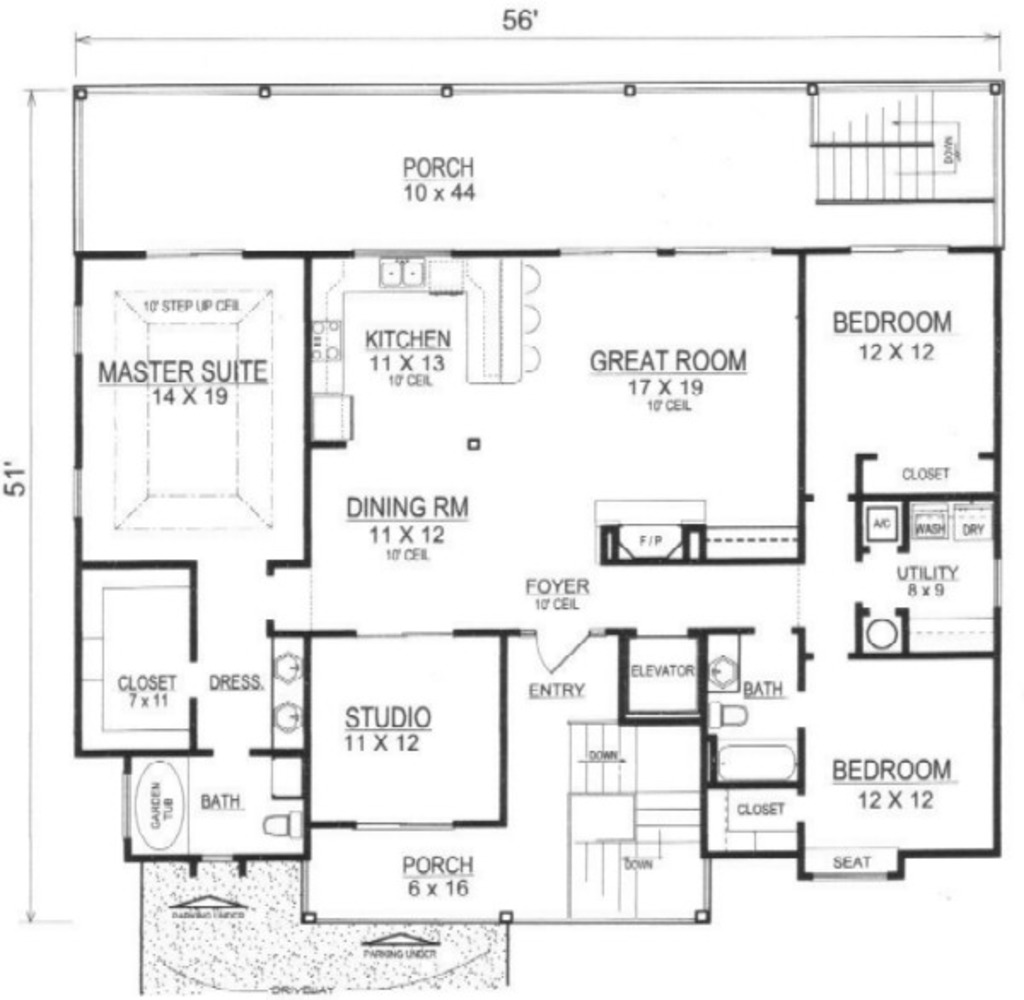door: (529, 627, 596, 675)
large_sink: (258, 802, 310, 846), (705, 693, 754, 735)
small_sink: (271, 639, 309, 749), (697, 632, 746, 696)
stairs: (566, 722, 710, 915), (808, 84, 995, 206)
tub: (712, 742, 805, 786)
windows: (846, 240, 949, 260), (347, 818, 461, 833), (137, 249, 252, 262), (119, 769, 136, 843)
